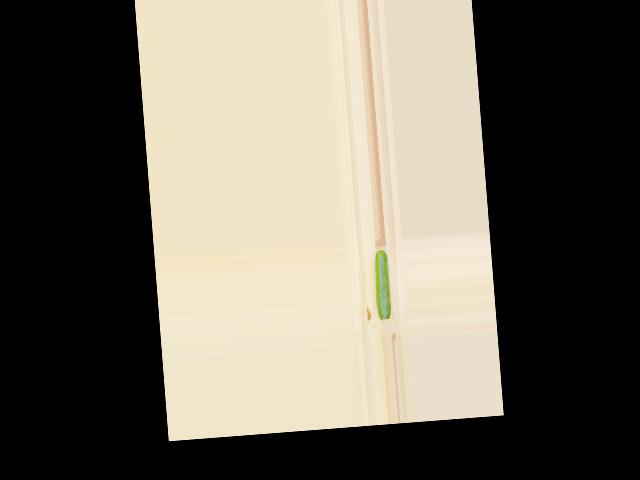cucumber: (372, 249, 392, 319)
